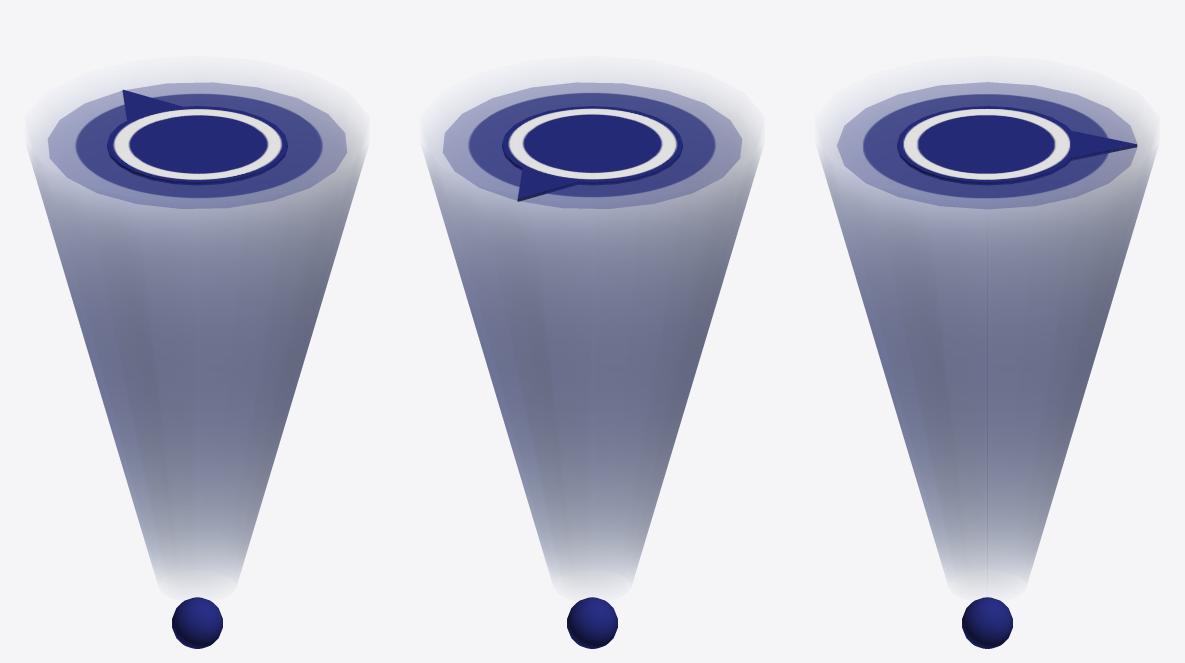
File: xingzouzhixiang.6a7f638.glb
3 views of the same model, side by side, from view 1: azimuth 30°, elevation 25°; view 2: azimuth 150°, elevation 25°; view 3: azimuth 270°, elevation 25° (orthographic).
Parts seen in each view (by area): view 1: 行走方向图标; view 2: 行走方向图标; view 3: 行走方向图标.
Boxes of the visible parts, bbox=[...] form: 行走方向图标: bbox=[29, 82, 365, 648]; 行走方向图标: bbox=[424, 82, 760, 648]; 行走方向图标: bbox=[819, 82, 1155, 648].
Bounding box in the file's own units: 2.22 × 3.65 × 2.19.
Materials: 4 (4 with a texture image).
